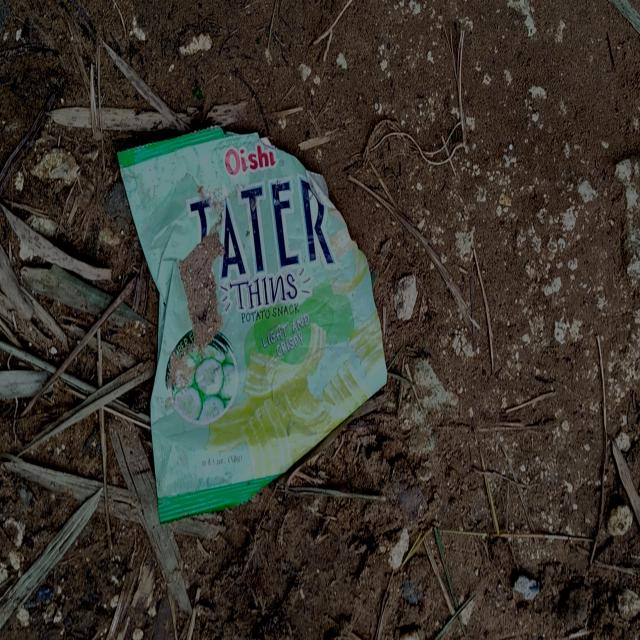residual: (111, 121, 393, 533)
